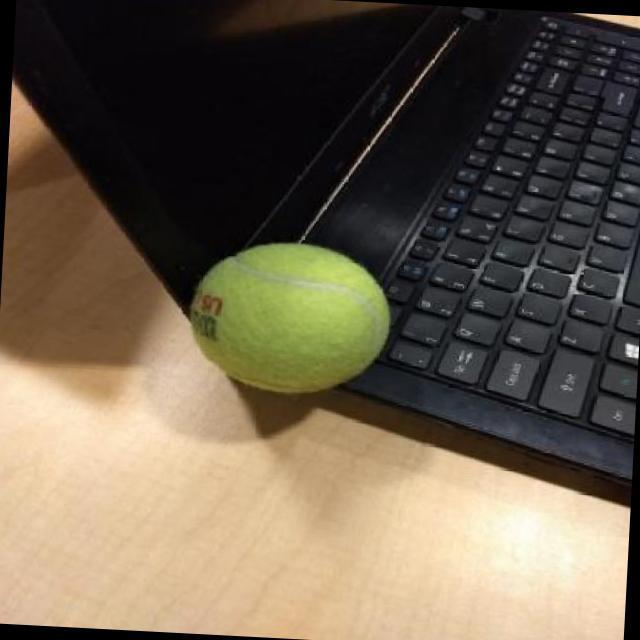-: (153, 232, 416, 421)
